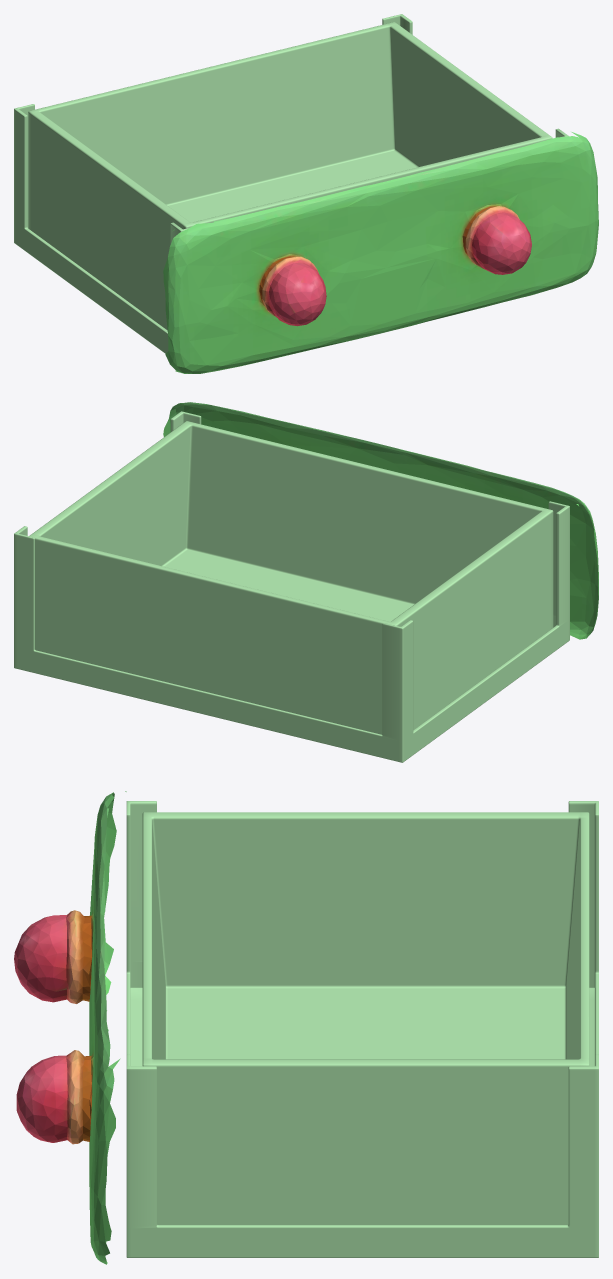
File: drawer_top.glb
3 renders of one model, top to bottom at view 1: azimuth 30°, elevation 25°; view 2: azimuth 150°, elevation 25°; view 3: azimuth 270°, elevation 25°, orthographic. The views are drawn at different scales.
Parts seen in each view (by area): view 1: prefab_drawer_body_1, source_front_cap_0; view 2: prefab_drawer_body_1, source_front_cap_0; view 3: prefab_drawer_body_1, source_front_cap_0.
Part boxes in pixels (x1,y1,x2,y2): prefab_drawer_body_1: (14,14,568,353); source_front_cap_0: (163,132,598,373); prefab_drawer_body_1: (14,411,569,762); source_front_cap_0: (163,402,598,639); prefab_drawer_body_1: (126,801,598,1257); source_front_cap_0: (14,791,126,1264).
Bounding box in the file's own units: 0.4092 × 0.1354 × 0.3401.
2 materials, 1 textured.
